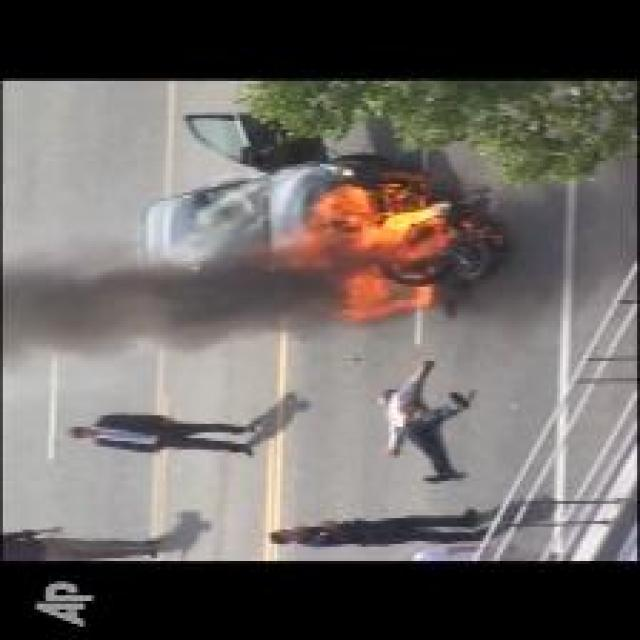Fire: (243, 189, 451, 317)
